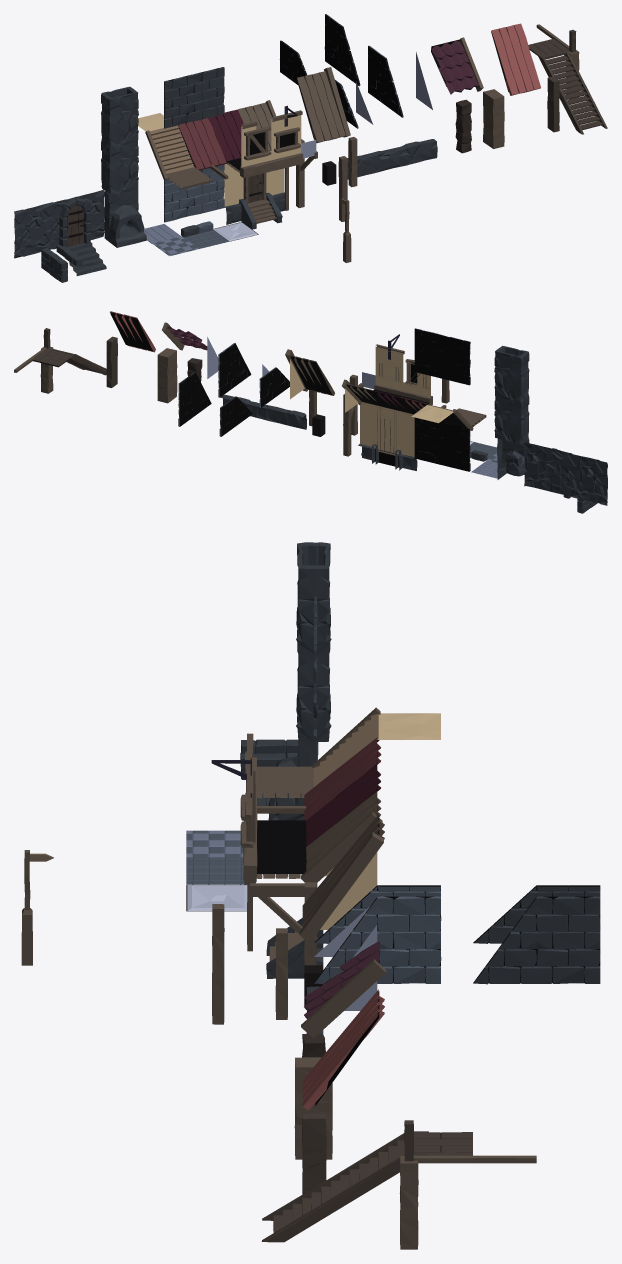
File: HouseCreation.fbx
The picture shows the model from 3 angles, top to bottom: view 1: azimuth 30°, elevation 25°; view 2: azimuth 150°, elevation 25°; view 3: azimuth 270°, elevation 25°; orthographic projection. The views are drawn at different scales.
Visible parts, largest first — view 1: brickwall.005, Cube.004, cieling, brickwall, fatSlopingPillar.003, chimney_bottom, chimney_top, chimney_mid, cieling1, cieling2, stonewallFull, stonewallHalf (+37 smaller); view 2: brickwall.005, stonewallFull, brickwall, blankwall, chimney_top, chimney_mid, stonewallHalf, halfBlankwall, fatPillar, chimney_bottom, cieling, fatSlopingPillar.003 (+24 smaller); view 3: brickwallHalf.002, brickwallHalf, Cube.004, chimney_top, woodWall, cieling, brickwall.003, chimney_mid, cieling2, cieling1.001, cielingwall.002, fatSlopingPillar.005 (+24 smaller).
Boxes of the visible parts, x1=… form: brickwall.005: x1=164, y1=67, x2=224, y2=128; Cube.004: x1=537, y1=48, x2=607, y2=134; cieling: x1=491, y1=23, x2=540, y2=95; brickwall: x1=164, y1=164, x2=224, y2=222; fatSlopingPillar.003: x1=296, y1=71, x2=345, y2=143; chimney_bottom: x1=104, y1=186, x2=146, y2=247; chimney_top: x1=101, y1=86, x2=138, y2=146; chimney_mid: x1=101, y1=139, x2=138, y2=193; cieling1: x1=431, y1=39, x2=479, y2=94; cieling2: x1=178, y1=118, x2=226, y2=170; stonewallFull: x1=44, y1=190, x2=104, y2=249; stonewallHalf: x1=14, y1=204, x2=44, y2=258; brickwall.005: x1=414, y1=328, x2=470, y2=385; stonewallFull: x1=524, y1=442, x2=580, y2=498; brickwall: x1=414, y1=417, x2=470, y2=471; blankwall: x1=360, y1=402, x2=414, y2=457; chimney_top: x1=494, y1=345, x2=529, y2=400; chimney_mid: x1=494, y1=394, x2=529, y2=444; stonewallHalf: x1=579, y1=456, x2=607, y2=505; halfBlankwall: x1=375, y1=344, x2=404, y2=390; fatPillar: x1=157, y1=348, x2=177, y2=403; chimney_bottom: x1=497, y1=438, x2=529, y2=486; cieling: x1=110, y1=311, x2=155, y2=352; fatSlopingPillar.003: x1=290, y1=355, x2=334, y2=395; brickwallHalf.002: x1=536, y1=896, x2=600, y2=983; brickwallHalf: x1=377, y1=896, x2=441, y2=983; Cube.004: x1=261, y1=1131, x2=429, y2=1242; chimney_top: x1=296, y1=542, x2=331, y2=655; woodWall: x1=256, y1=820, x2=306, y2=878; cieling: x1=302, y1=989, x2=384, y2=1110; brickwall.003: x1=473, y1=897, x2=536, y2=984; chimney_mid: x1=296, y1=632, x2=331, y2=741; cieling2: x1=304, y1=737, x2=381, y2=820; cieling1.001: x1=306, y1=764, x2=380, y2=846; cielingwall.002: x1=300, y1=832, x2=383, y2=941; fatSlopingPillar.005: x1=301, y1=959, x2=386, y2=1038.
Size of the model in its own units: 39.3 by 10.03 by 18.19.
